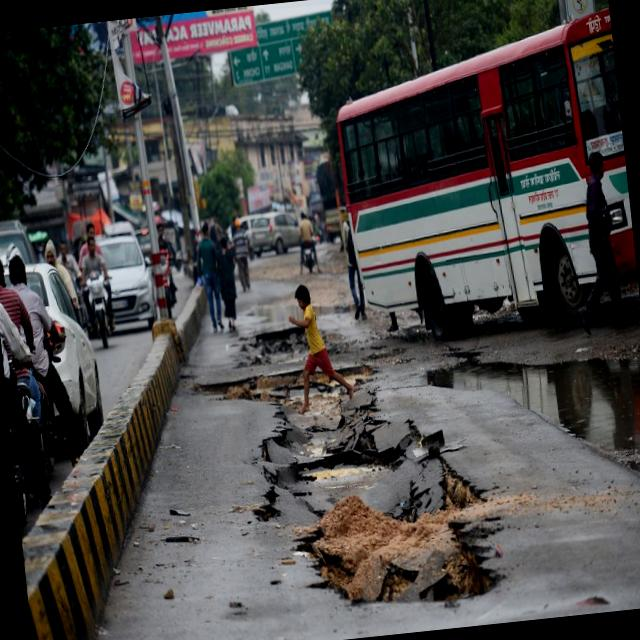bad-road: (244, 389, 510, 622), (192, 361, 381, 414), (236, 321, 340, 366), (164, 531, 202, 544)
